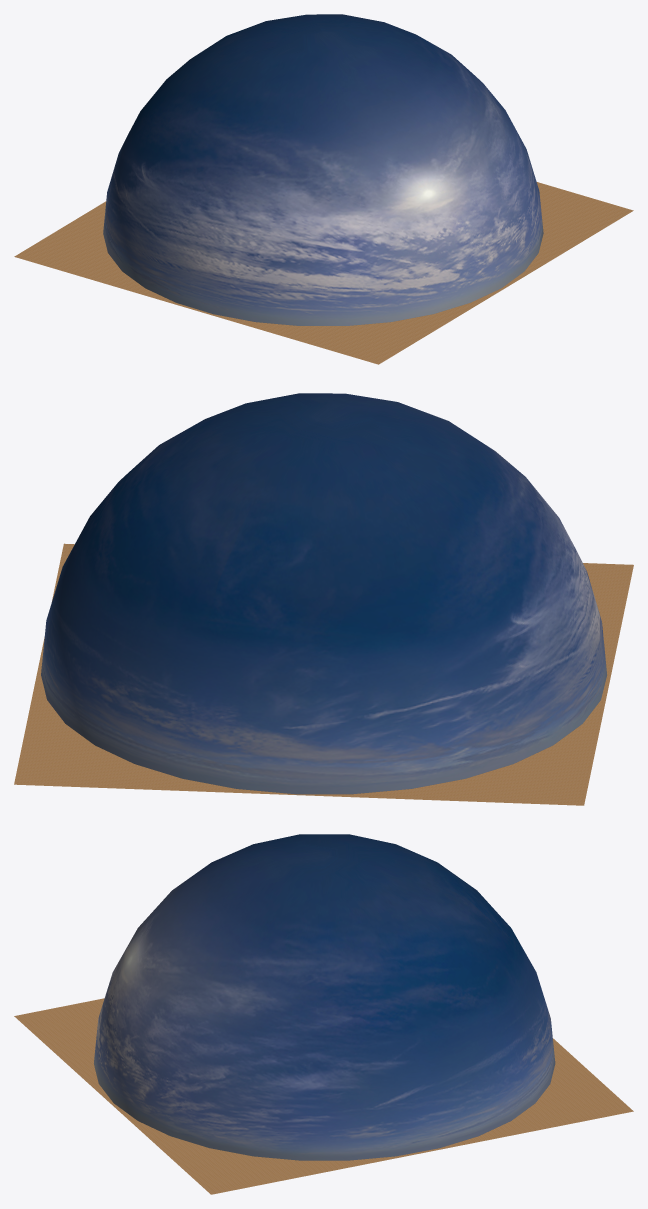
The model's file is skyandground.fbx.
3 views of the same model, one above another, from view 1: azimuth 30°, elevation 25°; view 2: azimuth 150°, elevation 25°; view 3: azimuth 270°, elevation 25° (orthographic). The views are drawn at different scales.
Visible parts, largest first — view 1: GeoSphere001, Plane002; view 2: GeoSphere001, Plane002; view 3: GeoSphere001, Plane002.
Part boxes in pixels (x1,y1,x2,y2): GeoSphere001: (103, 14, 543, 325); Plane002: (14, 182, 633, 364); GeoSphere001: (41, 393, 606, 794); Plane002: (14, 543, 633, 805); GeoSphere001: (94, 834, 555, 1160); Plane002: (14, 998, 633, 1194).
Bounding box in the file's own units: 14707 × 5475 × 14707.
2 materials, 2 textured.
